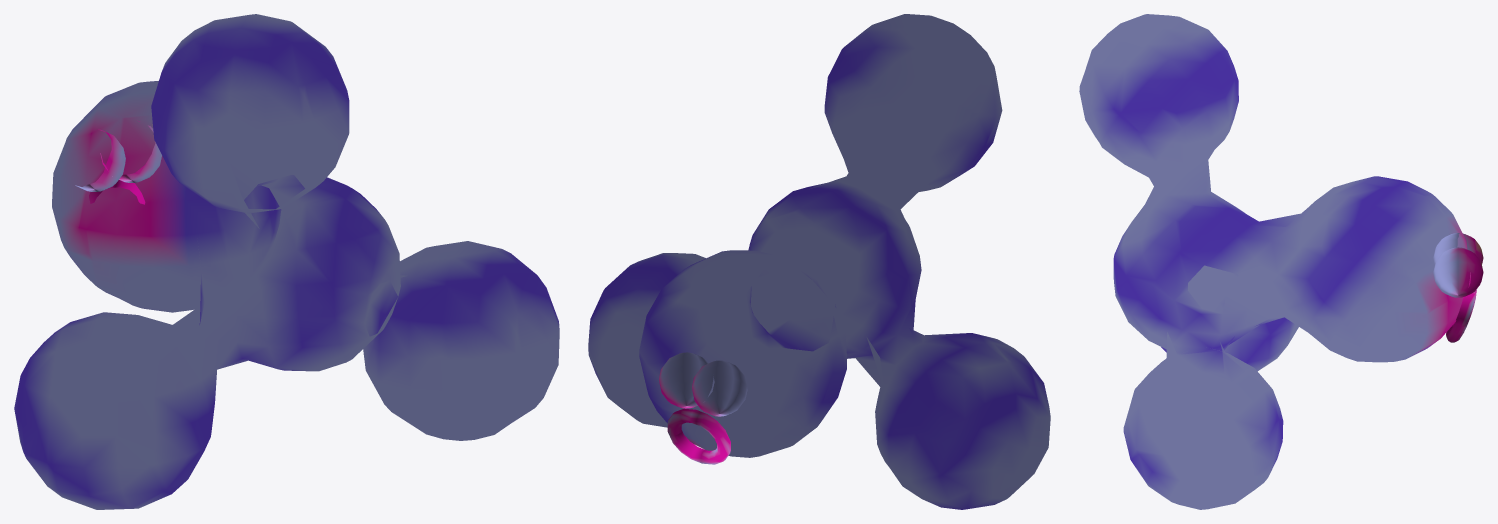
The model's file is bororion.glb.
3 views of the same model, side by side, from view 1: azimuth 30°, elevation 25°; view 2: azimuth 150°, elevation 25°; view 3: azimuth 270°, elevation 25° (orthographic). The views are drawn at different scales.
Visible parts, largest first — view 1: Bororion; view 2: Bororion; view 3: Bororion.
Boxes of the visible parts, left/top/right/bottom form: Bororion: left=14, top=14, right=559, bottom=509; Bororion: left=588, top=14, right=1050, bottom=509; Bororion: left=1079, top=14, right=1483, bottom=509.
Size of the model in its own units: 1.51 by 1.38 by 1.3.
